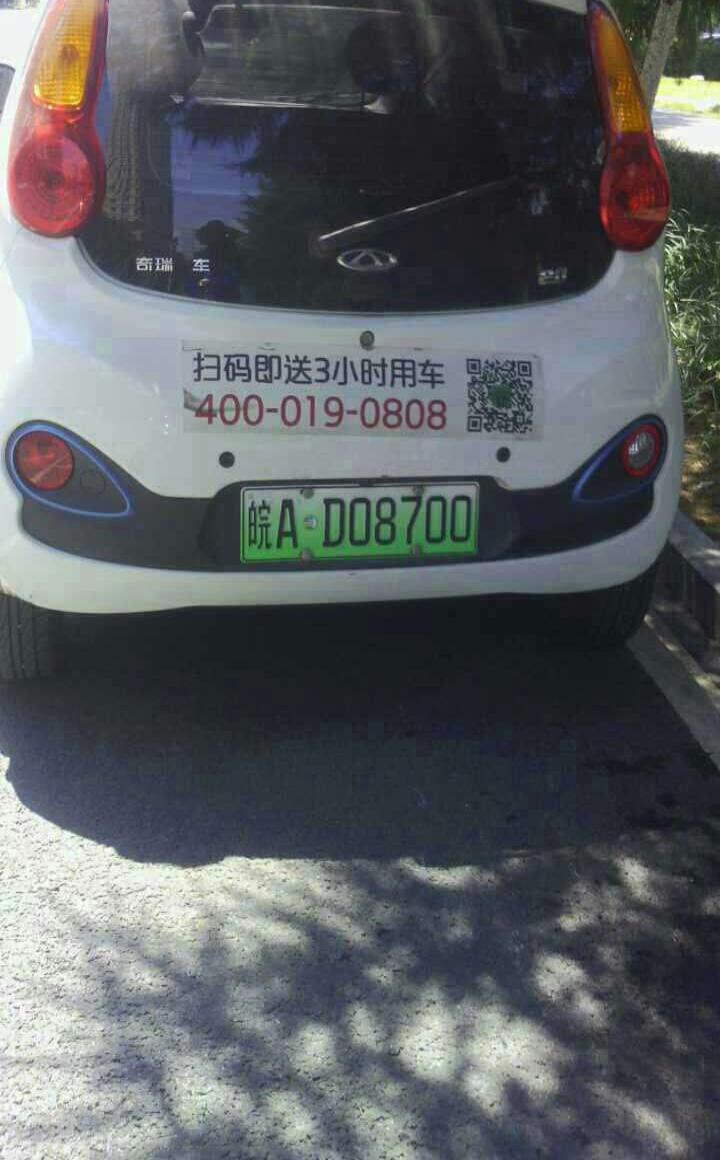car_id: (237, 481, 477, 555)
